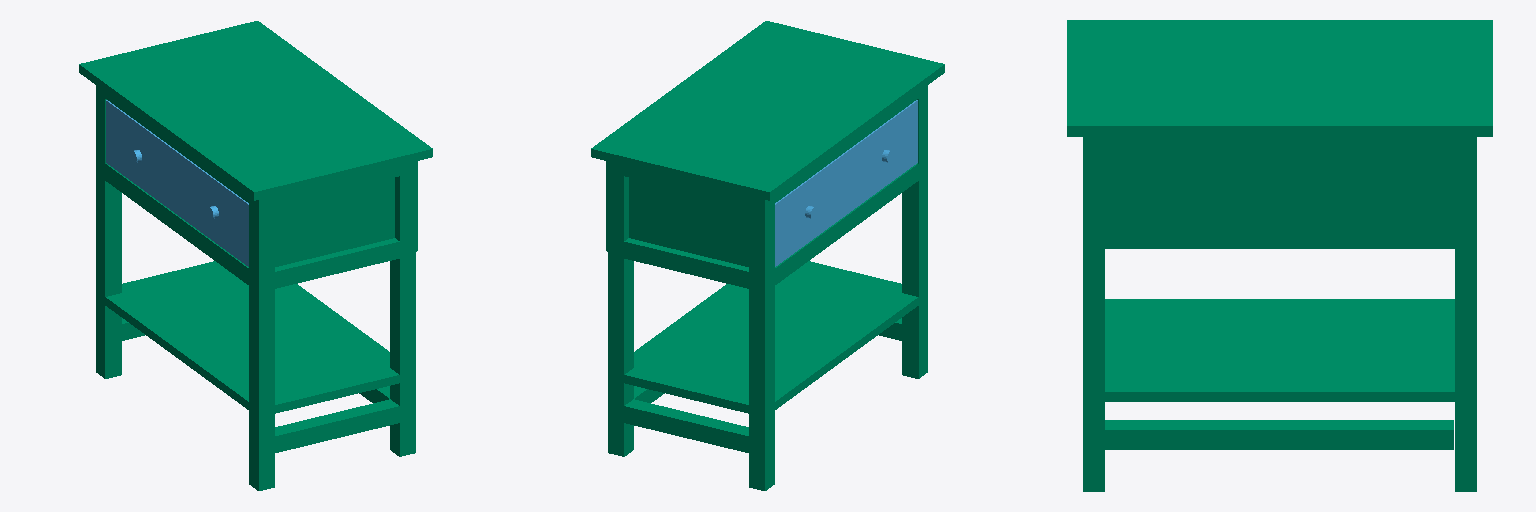
URDF robot description (partnet_21227197948fd2857c2f94a943a8669b):
<?xml version="1.0" ?>
<robot name="partnet_21227197948fd2857c2f94a943a8669b">
	<link name="base"/>
	<link name="link_0">
		<visual name="drawer_front-100">
			<origin xyz="0 0 0"/>
			<geometry>
				<mesh filename="textured_objs/original-6.obj"/>
			</geometry>
		</visual>
		<visual name="drawer_bottom-101">
			<origin xyz="0 0 0"/>
			<geometry>
				<mesh filename="textured_objs/original-5.obj"/>
			</geometry>
		</visual>
		<visual name="drawer_side-105">
			<origin xyz="0 0 0"/>
			<geometry>
				<mesh filename="textured_objs/original-4.obj"/>
			</geometry>
		</visual>
		<visual name="drawer_side-106">
			<origin xyz="0 0 0"/>
			<geometry>
				<mesh filename="textured_objs/original-3.obj"/>
			</geometry>
		</visual>
		<visual name="drawer_back-107">
			<origin xyz="0 0 0"/>
			<geometry>
				<mesh filename="textured_objs/original-2.obj"/>
			</geometry>
		</visual>
		<visual name="handle-98">
			<origin xyz="0 0 0"/>
			<geometry>
				<mesh filename="textured_objs/original-12.obj"/>
			</geometry>
		</visual>
		<visual name="handle-99">
			<origin xyz="0 0 0"/>
			<geometry>
				<mesh filename="textured_objs/original-11.obj"/>
			</geometry>
		</visual>
		<collision>
			<origin xyz="0 0 0"/>
			<geometry>
				<mesh filename="textured_objs/original-6.obj"/>
			</geometry>
		</collision>
		<collision>
			<origin xyz="0 0 0"/>
			<geometry>
				<mesh filename="textured_objs/original-5.obj"/>
			</geometry>
		</collision>
		<collision>
			<origin xyz="0 0 0"/>
			<geometry>
				<mesh filename="textured_objs/original-4.obj"/>
			</geometry>
		</collision>
		<collision>
			<origin xyz="0 0 0"/>
			<geometry>
				<mesh filename="textured_objs/original-3.obj"/>
			</geometry>
		</collision>
		<collision>
			<origin xyz="0 0 0"/>
			<geometry>
				<mesh filename="textured_objs/original-2.obj"/>
			</geometry>
		</collision>
		<collision>
			<origin xyz="0 0 0"/>
			<geometry>
				<mesh filename="textured_objs/original-12.obj"/>
			</geometry>
		</collision>
		<collision>
			<origin xyz="0 0 0"/>
			<geometry>
				<mesh filename="textured_objs/original-11.obj"/>
			</geometry>
		</collision>
	</link>
	<joint name="joint_0" type="prismatic">
		<origin xyz="0 0 0"/>
		<axis xyz="0 0 1"/>
		<child link="link_0"/>
		<parent link="link_1"/>
		<limit lower="0" upper="0.512"/>
	</joint>
	<link name="link_1">
		<visual name="board-104">
			<origin xyz="0 0 0"/>
			<geometry>
				<mesh filename="textured_objs/original-8.obj"/>
			</geometry>
		</visual>
		<visual name="board-104">
			<origin xyz="0 0 0"/>
			<geometry>
				<mesh filename="textured_objs/original-9.obj"/>
			</geometry>
		</visual>
		<visual name="board-104">
			<origin xyz="0 0 0"/>
			<geometry>
				<mesh filename="textured_objs/original-10.obj"/>
			</geometry>
		</visual>
		<visual name="shelf-78">
			<origin xyz="0 0 0"/>
			<geometry>
				<mesh filename="textured_objs/original-34.obj"/>
			</geometry>
		</visual>
		<visual name="shelf-78">
			<origin xyz="0 0 0"/>
			<geometry>
				<mesh filename="textured_objs/original-35.obj"/>
			</geometry>
		</visual>
		<visual name="shelf-78">
			<origin xyz="0 0 0"/>
			<geometry>
				<mesh filename="textured_objs/original-33.obj"/>
			</geometry>
		</visual>
		<visual name="vertical_side_panel-79">
			<origin xyz="0 0 0"/>
			<geometry>
				<mesh filename="textured_objs/original-30.obj"/>
			</geometry>
		</visual>
		<visual name="vertical_side_panel-80">
			<origin xyz="0 0 0"/>
			<geometry>
				<mesh filename="textured_objs/original-25.obj"/>
			</geometry>
		</visual>
		<visual name="leg-81">
			<origin xyz="0 0 0"/>
			<geometry>
				<mesh filename="textured_objs/original-14.obj"/>
			</geometry>
		</visual>
		<visual name="leg-82">
			<origin xyz="0 0 0"/>
			<geometry>
				<mesh filename="textured_objs/original-19.obj"/>
			</geometry>
		</visual>
		<visual name="leg-83">
			<origin xyz="0 0 0"/>
			<geometry>
				<mesh filename="textured_objs/original-28.obj"/>
			</geometry>
		</visual>
		<visual name="leg-84">
			<origin xyz="0 0 0"/>
			<geometry>
				<mesh filename="textured_objs/original-17.obj"/>
			</geometry>
		</visual>
		<visual name="bar_stretcher-85">
			<origin xyz="0 0 0"/>
			<geometry>
				<mesh filename="textured_objs/original-26.obj"/>
			</geometry>
		</visual>
		<visual name="bar_stretcher-86">
			<origin xyz="0 0 0"/>
			<geometry>
				<mesh filename="textured_objs/original-18.obj"/>
			</geometry>
		</visual>
		<visual name="bar_stretcher-87">
			<origin xyz="0 0 0"/>
			<geometry>
				<mesh filename="textured_objs/original-13.obj"/>
			</geometry>
		</visual>
		<visual name="bar_stretcher-88">
			<origin xyz="0 0 0"/>
			<geometry>
				<mesh filename="textured_objs/original-31.obj"/>
			</geometry>
		</visual>
		<visual name="bar_stretcher-89">
			<origin xyz="0 0 0"/>
			<geometry>
				<mesh filename="textured_objs/original-27.obj"/>
			</geometry>
		</visual>
		<visual name="bar_stretcher-90">
			<origin xyz="0 0 0"/>
			<geometry>
				<mesh filename="textured_objs/original-24.obj"/>
			</geometry>
		</visual>
		<visual name="bar_stretcher-91">
			<origin xyz="0 0 0"/>
			<geometry>
				<mesh filename="textured_objs/original-15.obj"/>
			</geometry>
		</visual>
		<visual name="bar_stretcher-92">
			<origin xyz="0 0 0"/>
			<geometry>
				<mesh filename="textured_objs/original-23.obj"/>
			</geometry>
		</visual>
		<visual name="bar_stretcher-93">
			<origin xyz="0 0 0"/>
			<geometry>
				<mesh filename="textured_objs/original-32.obj"/>
			</geometry>
		</visual>
		<visual name="tabletop_connector-94">
			<origin xyz="0 0 0"/>
			<geometry>
				<mesh filename="textured_objs/original-21.obj"/>
			</geometry>
		</visual>
		<visual name="tabletop_connector-95">
			<origin xyz="0 0 0"/>
			<geometry>
				<mesh filename="textured_objs/original-29.obj"/>
			</geometry>
		</visual>
		<visual name="tabletop_connector-96">
			<origin xyz="0 0 0"/>
			<geometry>
				<mesh filename="textured_objs/original-22.obj"/>
			</geometry>
		</visual>
		<visual name="back_panel-102">
			<origin xyz="0 0 0"/>
			<geometry>
				<mesh filename="textured_objs/original-16.obj"/>
			</geometry>
		</visual>
		<visual name="tabletop_connector-108">
			<origin xyz="0 0 0"/>
			<geometry>
				<mesh filename="textured_objs/original-20.obj"/>
			</geometry>
		</visual>
		<collision>
			<origin xyz="0 0 0"/>
			<geometry>
				<mesh filename="textured_objs/original-8.obj"/>
			</geometry>
		</collision>
		<collision>
			<origin xyz="0 0 0"/>
			<geometry>
				<mesh filename="textured_objs/original-9.obj"/>
			</geometry>
		</collision>
		<collision>
			<origin xyz="0 0 0"/>
			<geometry>
				<mesh filename="textured_objs/original-10.obj"/>
			</geometry>
		</collision>
		<collision>
			<origin xyz="0 0 0"/>
			<geometry>
				<mesh filename="textured_objs/original-34.obj"/>
			</geometry>
		</collision>
		<collision>
			<origin xyz="0 0 0"/>
			<geometry>
				<mesh filename="textured_objs/original-35.obj"/>
			</geometry>
		</collision>
		<collision>
			<origin xyz="0 0 0"/>
			<geometry>
				<mesh filename="textured_objs/original-33.obj"/>
			</geometry>
		</collision>
		<collision>
			<origin xyz="0 0 0"/>
			<geometry>
				<mesh filename="textured_objs/original-30.obj"/>
			</geometry>
		</collision>
		<collision>
			<origin xyz="0 0 0"/>
			<geometry>
				<mesh filename="textured_objs/original-25.obj"/>
			</geometry>
		</collision>
		<collision>
			<origin xyz="0 0 0"/>
			<geometry>
				<mesh filename="textured_objs/original-14.obj"/>
			</geometry>
		</collision>
		<collision>
			<origin xyz="0 0 0"/>
			<geometry>
				<mesh filename="textured_objs/original-19.obj"/>
			</geometry>
		</collision>
		<collision>
			<origin xyz="0 0 0"/>
			<geometry>
				<mesh filename="textured_objs/original-28.obj"/>
			</geometry>
		</collision>
		<collision>
			<origin xyz="0 0 0"/>
			<geometry>
				<mesh filename="textured_objs/original-17.obj"/>
			</geometry>
		</collision>
		<collision>
			<origin xyz="0 0 0"/>
			<geometry>
				<mesh filename="textured_objs/original-26.obj"/>
			</geometry>
		</collision>
		<collision>
			<origin xyz="0 0 0"/>
			<geometry>
				<mesh filename="textured_objs/original-18.obj"/>
			</geometry>
		</collision>
		<collision>
			<origin xyz="0 0 0"/>
			<geometry>
				<mesh filename="textured_objs/original-13.obj"/>
			</geometry>
		</collision>
		<collision>
			<origin xyz="0 0 0"/>
			<geometry>
				<mesh filename="textured_objs/original-31.obj"/>
			</geometry>
		</collision>
		<collision>
			<origin xyz="0 0 0"/>
			<geometry>
				<mesh filename="textured_objs/original-27.obj"/>
			</geometry>
		</collision>
		<collision>
			<origin xyz="0 0 0"/>
			<geometry>
				<mesh filename="textured_objs/original-24.obj"/>
			</geometry>
		</collision>
		<collision>
			<origin xyz="0 0 0"/>
			<geometry>
				<mesh filename="textured_objs/original-15.obj"/>
			</geometry>
		</collision>
		<collision>
			<origin xyz="0 0 0"/>
			<geometry>
				<mesh filename="textured_objs/original-23.obj"/>
			</geometry>
		</collision>
		<collision>
			<origin xyz="0 0 0"/>
			<geometry>
				<mesh filename="textured_objs/original-32.obj"/>
			</geometry>
		</collision>
		<collision>
			<origin xyz="0 0 0"/>
			<geometry>
				<mesh filename="textured_objs/original-21.obj"/>
			</geometry>
		</collision>
		<collision>
			<origin xyz="0 0 0"/>
			<geometry>
				<mesh filename="textured_objs/original-29.obj"/>
			</geometry>
		</collision>
		<collision>
			<origin xyz="0 0 0"/>
			<geometry>
				<mesh filename="textured_objs/original-22.obj"/>
			</geometry>
		</collision>
		<collision>
			<origin xyz="0 0 0"/>
			<geometry>
				<mesh filename="textured_objs/original-16.obj"/>
			</geometry>
		</collision>
		<collision>
			<origin xyz="0 0 0"/>
			<geometry>
				<mesh filename="textured_objs/original-20.obj"/>
			</geometry>
		</collision>
	</link>
	<joint name="joint_1" type="fixed">
		<origin rpy="1.570796326794897 0 -1.570796326794897" xyz="0 0 0"/>
		<child link="link_1"/>
		<parent link="base"/>
	</joint>
</robot>

--- Facts derived from the render (not from the file) ---
Views: 3 orthographic renders of the robot side by side, from view 1: azimuth 30°, elevation 25°; view 2: azimuth 150°, elevation 25°; view 3: azimuth 270°, elevation 25°.
Model partnet_21227197948fd2857c2f94a943a8669b with 3 links and 2 joints (1 prismatic, 1 fixed), rooted at base, posed every joint at zero.
Visible links, largest first — view 1: link_1, link_0; view 2: link_1, link_0; view 3: link_1.
Boxes of the visible links, x1,y1,x2,y2 form: link_1: [79, 21, 432, 490]; link_0: [106, 100, 248, 266]; link_1: [591, 21, 944, 490]; link_0: [775, 100, 917, 266]; link_1: [1067, 20, 1492, 491].
Size in the robot's own frame: 0.7627 by 1.29 by 1.25 metres.
Meshes: 33 distinct files referenced, 33 mesh visuals loaded (33 OBJ).
